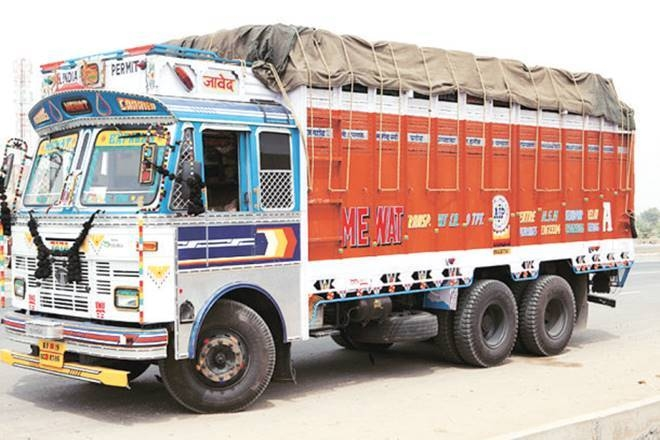Truck: (1, 19, 643, 418)
